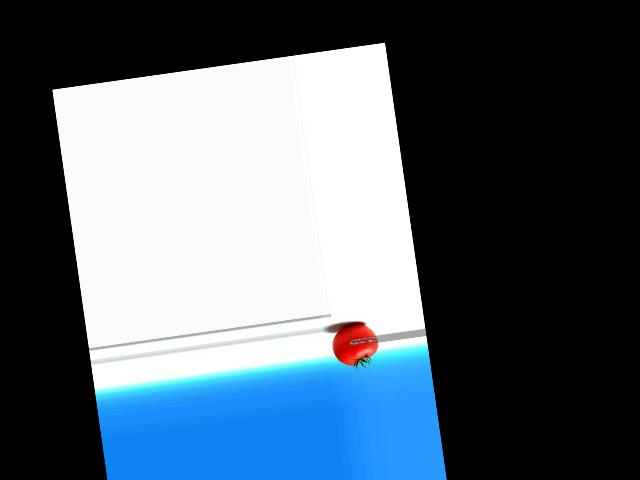tomato: (330, 322, 381, 367)
